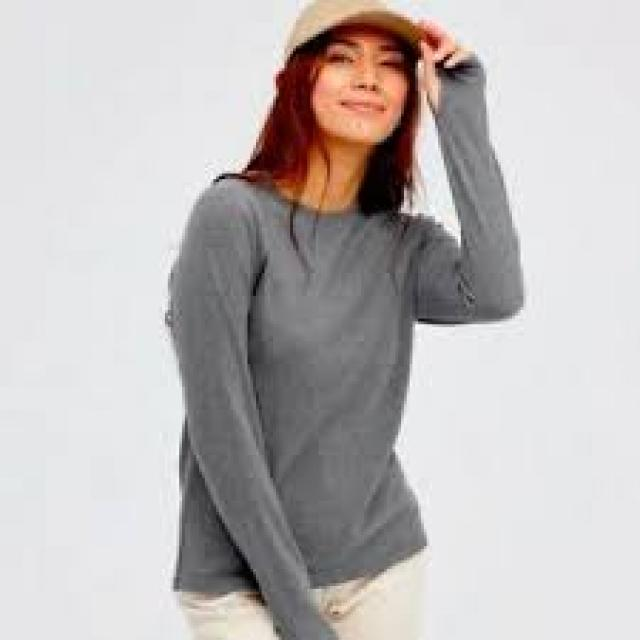plain: (132, 141, 497, 597)
